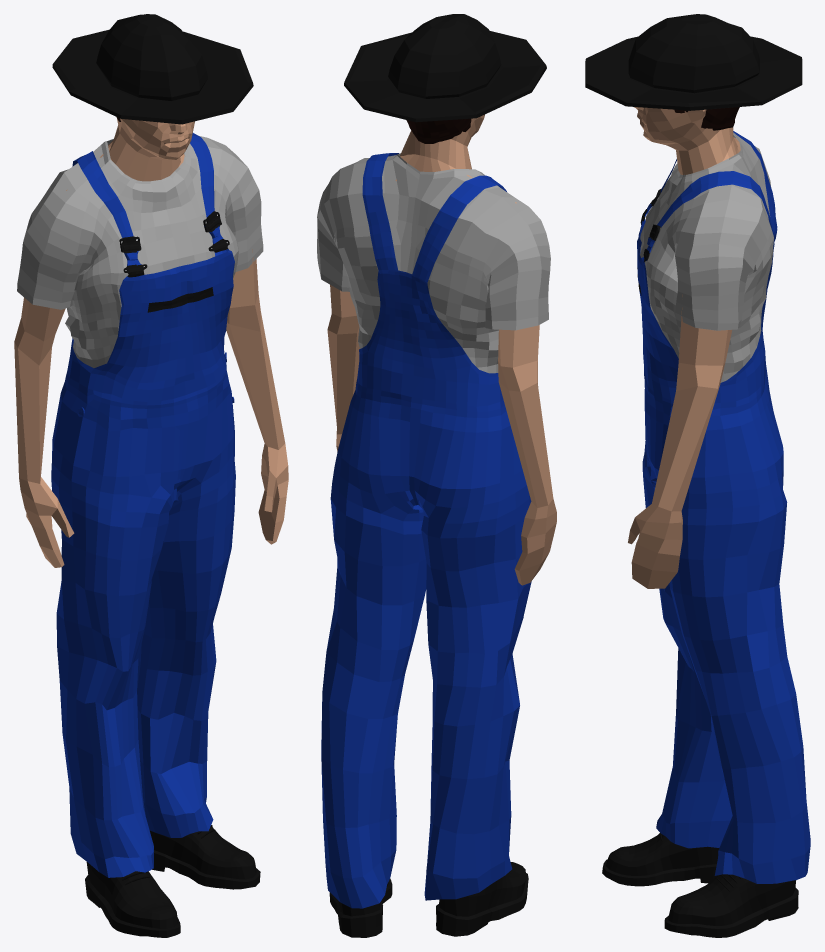
Rendered from farmer.obj.
3 views of the same model, side by side, from view 1: azimuth 30°, elevation 25°; view 2: azimuth 150°, elevation 25°; view 3: azimuth 270°, elevation 25° (orthographic). The views are drawn at different scales.
Visible parts, largest first — view 1: Worker, Worker.002, Worker.001, Worker.004, Hat, Worker.003; view 2: Worker, Worker.002, Worker.001, Worker.004, Hat, Worker.003; view 3: Worker.001, Worker, Worker.003, Hat, Worker.002.
Boxes of the visible parts, x1=… form: Worker: x1=52, y1=117, x2=247, y2=885; Worker.002: x1=51, y1=439, x2=180, y2=937; Worker.001: x1=137, y1=430, x2=260, y2=889; Worker.004: x1=14, y1=172, x2=104, y2=567; Hat: x1=52, y1=14, x2=253, y2=124; Worker.003: x1=208, y1=138, x2=288, y2=544; Worker: x1=334, y1=114, x2=522, y2=600; Worker.002: x1=414, y1=470, x2=531, y2=936; Worker.001: x1=321, y1=449, x2=424, y2=937; Worker.004: x1=464, y1=197, x2=556, y2=585; Hat: x1=344, y1=14, x2=546, y2=122; Worker.003: x1=317, y1=159, x2=361, y2=451; Worker.001: x1=651, y1=453, x2=810, y2=937; Worker: x1=634, y1=107, x2=783, y2=890; Worker.003: x1=628, y1=199, x2=767, y2=588; Hat: x1=585, y1=14, x2=802, y2=110; Worker.002: x1=602, y1=441, x2=732, y2=886.
Size of the model in its own units: 0.517 by 1.84 by 0.4318.
